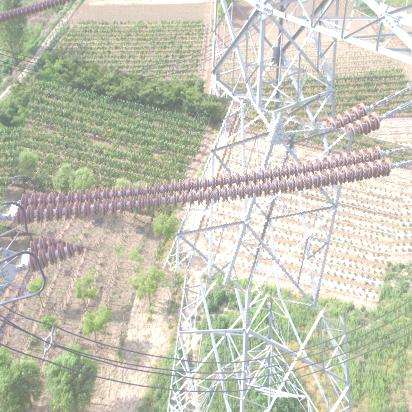insulator: (5, 74, 411, 302)
